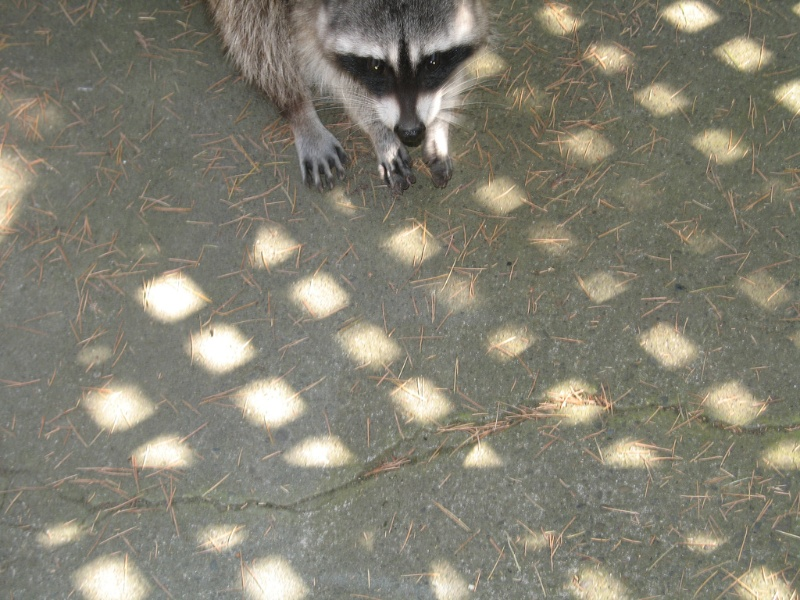raccoon: (209, 1, 502, 193)
